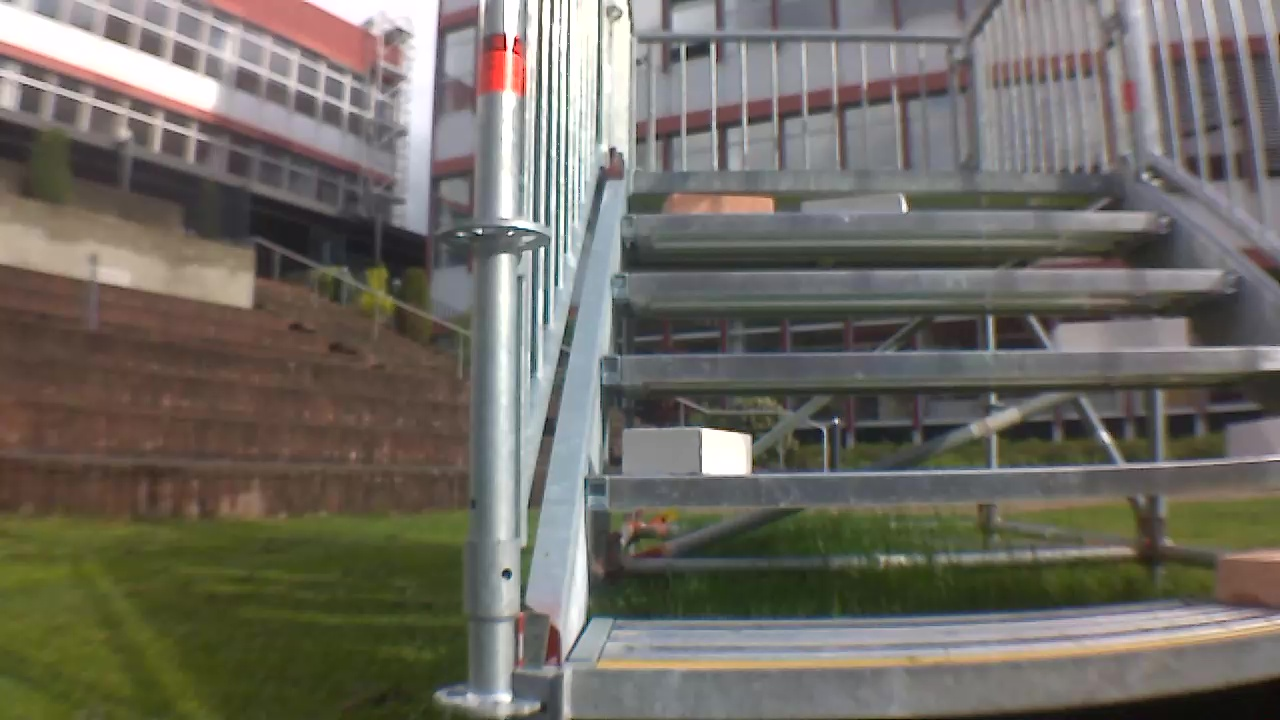brick: (622, 427, 751, 475), (1058, 318, 1186, 349), (1219, 551, 1280, 606), (662, 193, 772, 213), (802, 194, 906, 213), (1227, 420, 1280, 454)
edge: (572, 631, 1276, 718), (590, 459, 1280, 503), (601, 347, 1280, 381), (614, 269, 1239, 292), (623, 212, 1179, 231), (630, 171, 1124, 189)
stairs: (459, 1, 1280, 718)
steps: (558, 166, 1280, 719)
